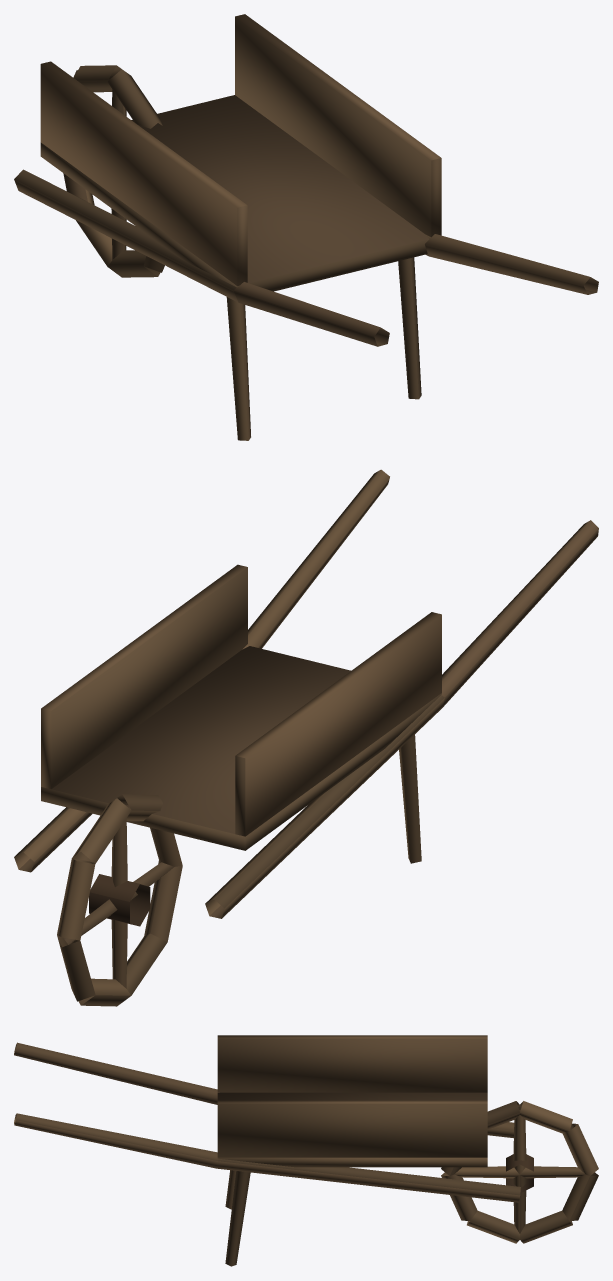
File: carretto.glb
3 renders of one model, top to bottom at view 1: azimuth 30°, elevation 25°; view 2: azimuth 150°, elevation 25°; view 3: azimuth 270°, elevation 25°, orthographic. The views are drawn at different scales.
Visible parts, largest first — view 1: carretto; view 2: carretto; view 3: carretto.
Part boxes in pixels (x1,y1,x2,y2): carretto: [14, 14, 598, 440]; carretto: [14, 469, 598, 1006]; carretto: [14, 1035, 598, 1266].
Size of the model in its own units: 0.66 by 0.7127 by 2.17.
